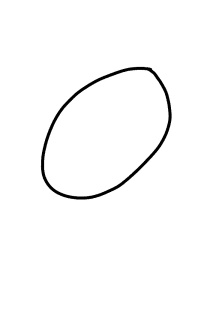Circle: (38, 63, 176, 202)
